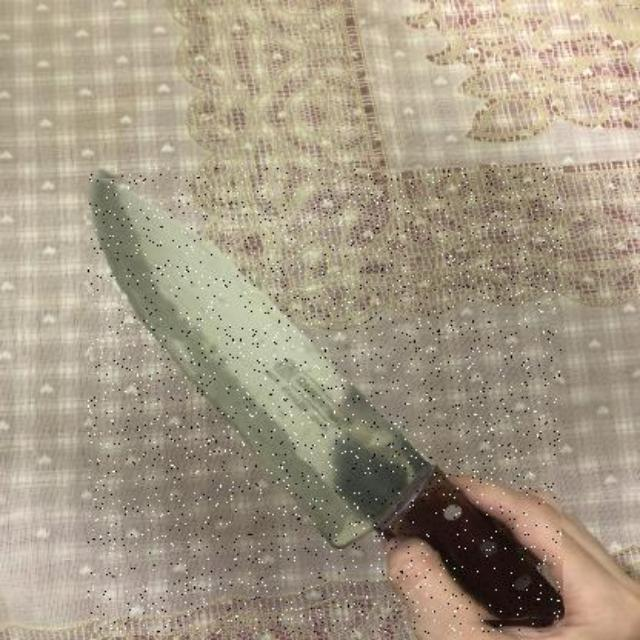Knife: (89, 168, 562, 634)
